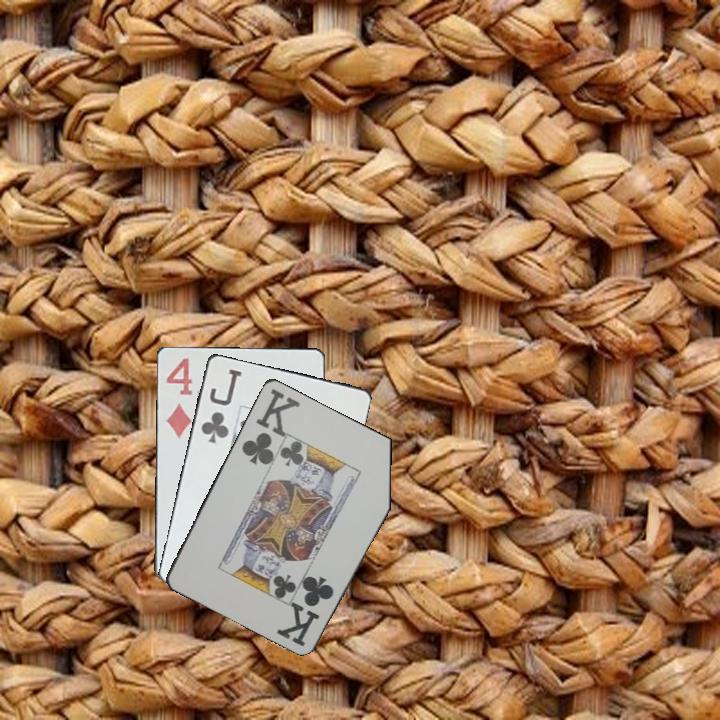4d: (162, 354, 195, 441)
Jc: (197, 365, 244, 446)
Kc: (238, 385, 302, 470), (277, 572, 338, 649)
